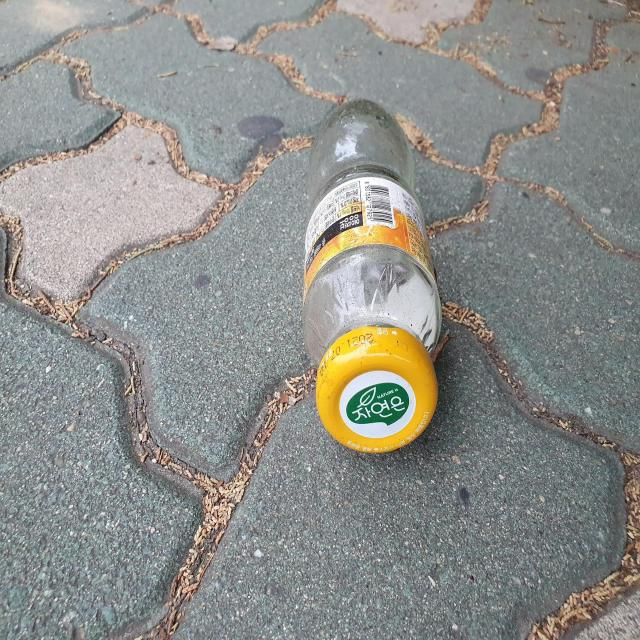glass: (303, 99, 442, 453)
